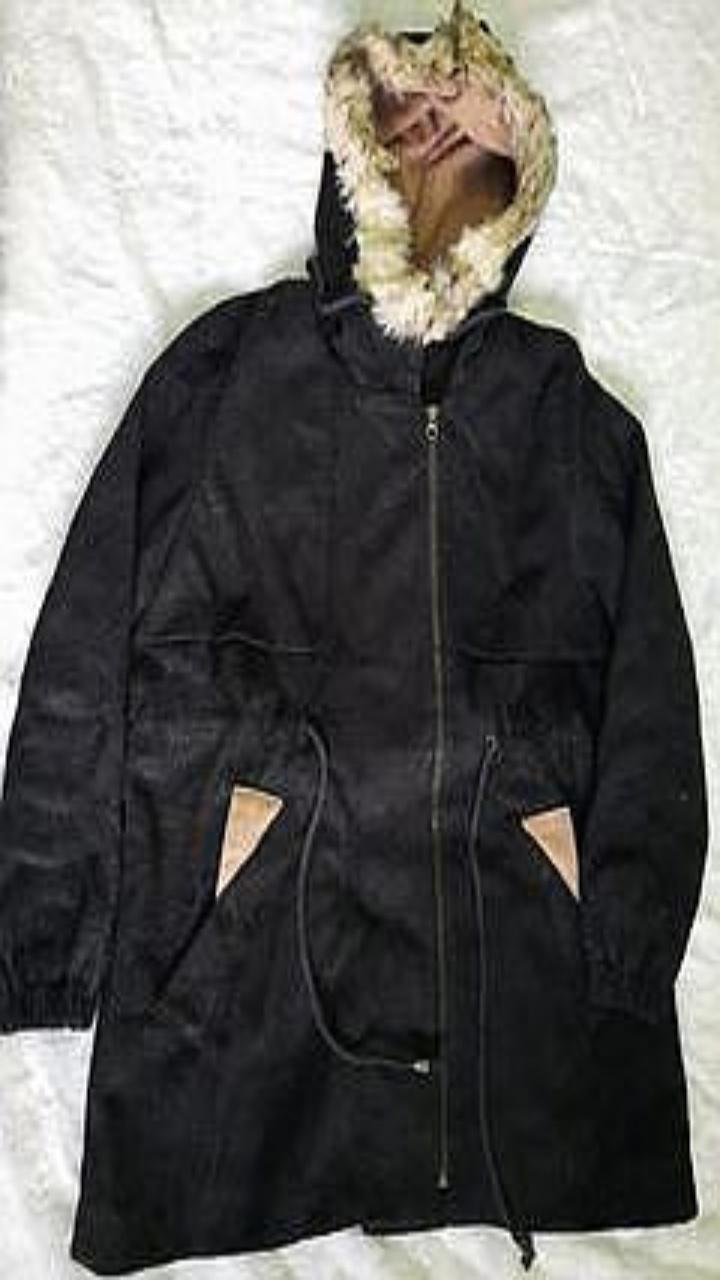Coat: (0, 11, 706, 1273)
